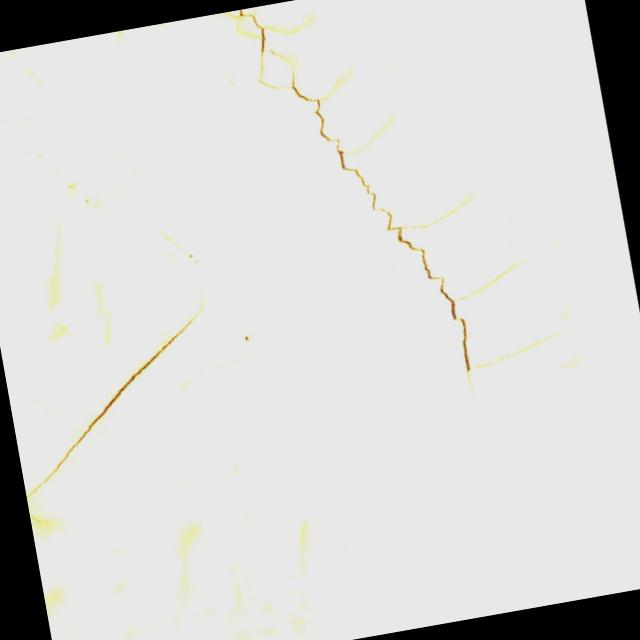crack: (255, 0, 480, 403), (2, 310, 228, 496)
